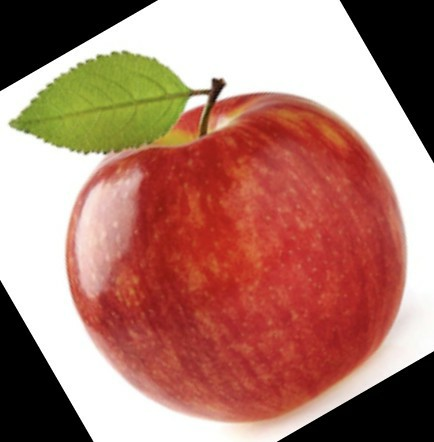fresh_apple: (69, 94, 409, 425)
